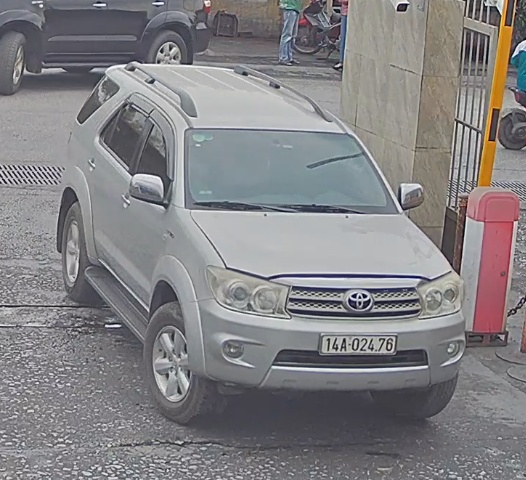vehicle plate: (309, 328, 405, 359)
